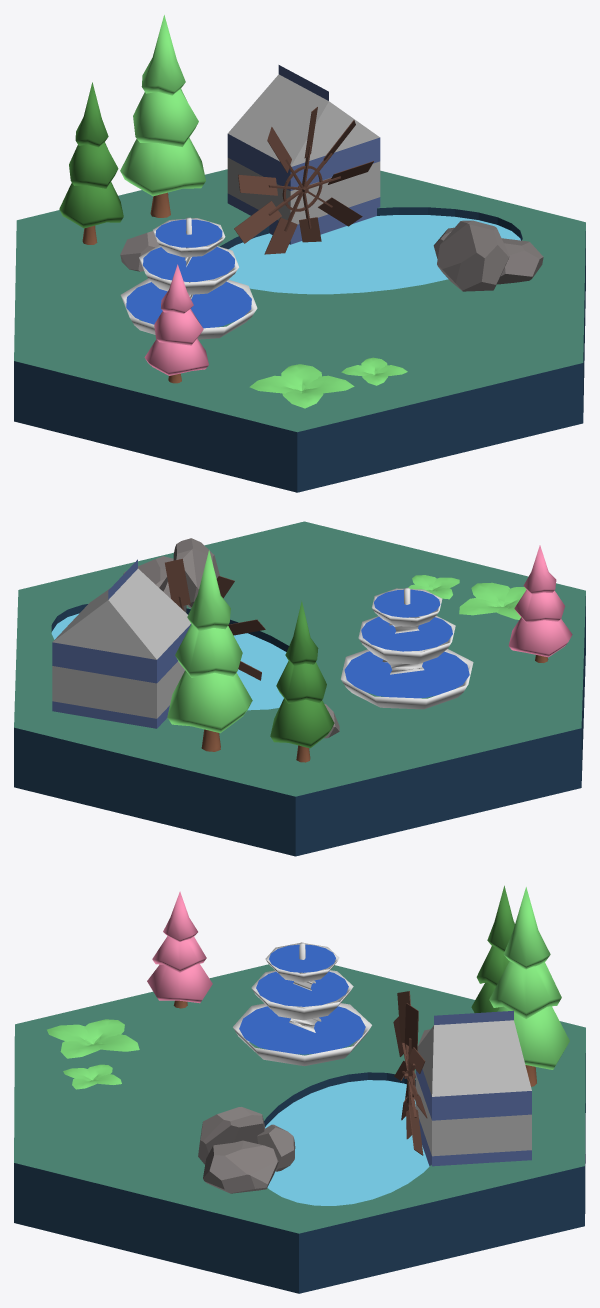
Rendered from Macro - Townhall lvl 789 Water Land rev.fbx.
3 renders of one model, top to bottom at view 1: azimuth 30°, elevation 25°; view 2: azimuth 150°, elevation 25°; view 3: azimuth 270°, elevation 25°, orthographic.
Visible parts, largest first — view 1: Cylinder.050, milkbox2.001, Cylinder.052, Cube.018, Tree_Spruce_tiny_01.008, Fanblade.002, Rock Type2 02 mesh.008, Tree_Spruce_tiny_01.007, Tree_Spruce_tiny_01.010, Plane.003, Plane.005, Rock Type2 04 mesh.025; view 2: Cylinder.050, milkbox2.001, Cube.018, Tree_Spruce_tiny_01.008, Tree_Spruce_tiny_01.007, Tree_Spruce_tiny_01.010, Cylinder.052, Rock Type2 02 mesh.008, Fanblade.002, Plane.003, Plane.005; view 3: Cylinder.050, milkbox2.001, Cylinder.052, Cube.018, Tree_Spruce_tiny_01.008, Rock Type2 02 mesh.008, Tree_Spruce_tiny_01.010, Fanblade.002, Plane.003, Tree_Spruce_tiny_01.007, Plane.005.
Part boxes in pixels (x1,y1,x2,y2): Cylinder.050: (14, 169, 585, 492); milkbox2.001: (227, 65, 380, 244); Cylinder.052: (228, 215, 520, 294); Cube.018: (120, 217, 257, 339); Tree_Spruce_tiny_01.008: (120, 15, 205, 217); Fanblade.002: (234, 107, 373, 254); Rock Type2 02 mesh.008: (433, 220, 543, 291); Tree_Spruce_tiny_01.007: (59, 82, 123, 244); Tree_Spruce_tiny_01.010: (144, 264, 208, 383); Plane.003: (249, 364, 354, 408); Plane.005: (341, 357, 407, 385); Rock Type2 04 mesh.025: (120, 231, 158, 271); Cylinder.050: (14, 521, 585, 856); milkbox2.001: (52, 559, 191, 728); Cube.018: (341, 587, 473, 709); Tree_Spruce_tiny_01.008: (167, 550, 252, 751); Tree_Spruce_tiny_01.007: (270, 600, 334, 762); Tree_Spruce_tiny_01.010: (508, 545, 572, 662); Cylinder.052: (51, 613, 288, 710); Rock Type2 02 mesh.008: (123, 538, 219, 612); Fanblade.002: (165, 558, 265, 680); Plane.003: (459, 582, 526, 619); Plane.005: (408, 575, 459, 599); Cylinder.050: (14, 964, 585, 1293); milkbox2.001: (415, 1010, 531, 1166); Cylinder.052: (265, 1080, 429, 1205); Cube.018: (233, 942, 371, 1066); Tree_Spruce_tiny_01.008: (489, 887, 569, 1086); Rock Type2 02 mesh.008: (198, 1107, 295, 1193); Tree_Spruce_tiny_01.010: (147, 891, 212, 1008); Fanblade.002: (393, 991, 427, 1155); Plane.003: (47, 1019, 139, 1058); Tree_Spruce_tiny_01.007: (471, 885, 514, 1012); Plane.005: (63, 1064, 121, 1089).
Bounding box in the file's own units: 197 × 85.91 × 172.
